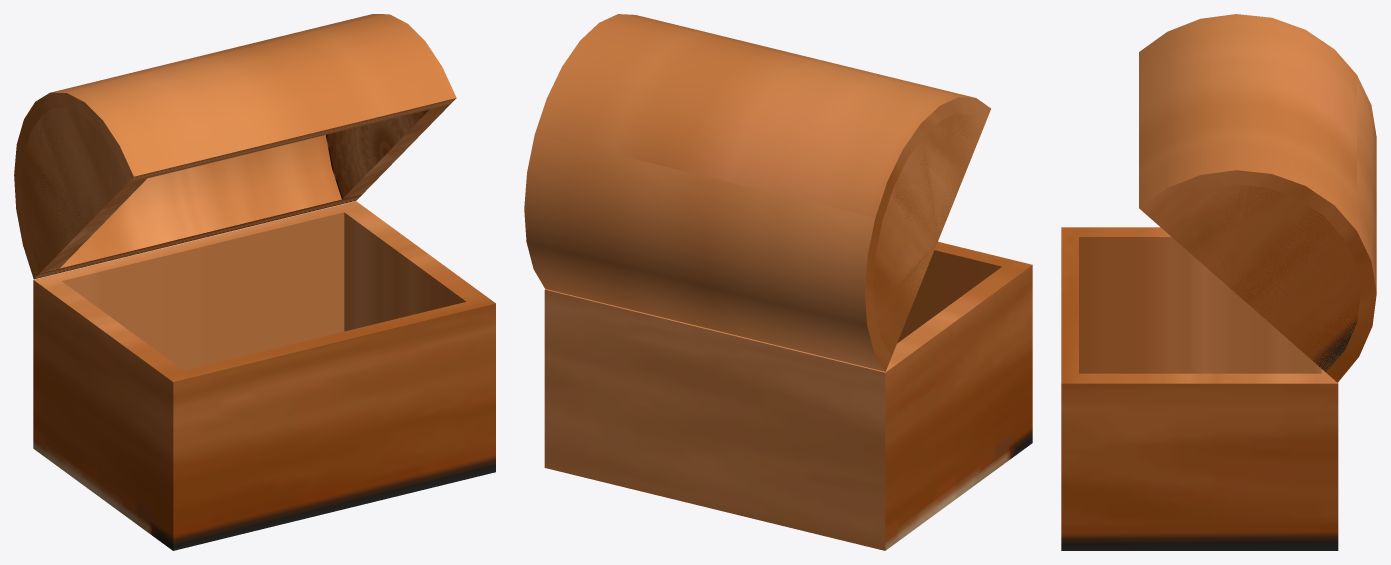
File: Chest_alfa_03.fbx
3 views of the same model, side by side, from view 1: azimuth 30°, elevation 25°; view 2: azimuth 150°, elevation 25°; view 3: azimuth 270°, elevation 25° (orthographic). The views are drawn at different scales.
Visible parts, largest first — view 1: Chestbox_demo_cen; view 2: Chestbox_demo_cen; view 3: Chestbox_demo_cen.
Boxes of the visible parts, <box> form: Chestbox_demo_cen: <box>14,14,495,550</box>; Chestbox_demo_cen: <box>524,14,1032,550</box>; Chestbox_demo_cen: <box>1061,14,1376,550</box>.
Size of the model in its own units: 2 by 2.27 by 1.71.
1 material, 1 textured.
